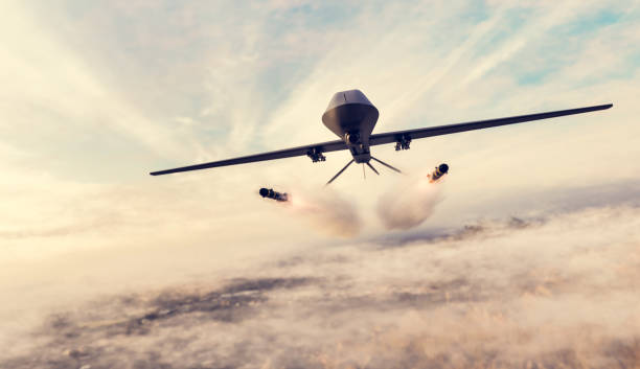military drone: (149, 88, 613, 185)
